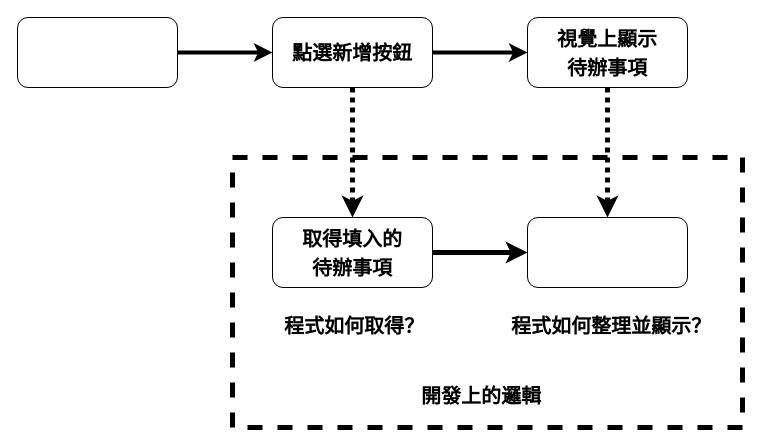
This 762x447 diagram has some shape labels left out. The shapes that lost their labels are listed below. From the top down, each one's centre as x and y in pixels, then its label:
At (x=97, y=52): "填入待辦事項".
At (x=607, y=252): "將取得的內容 依序顯示於網頁".
